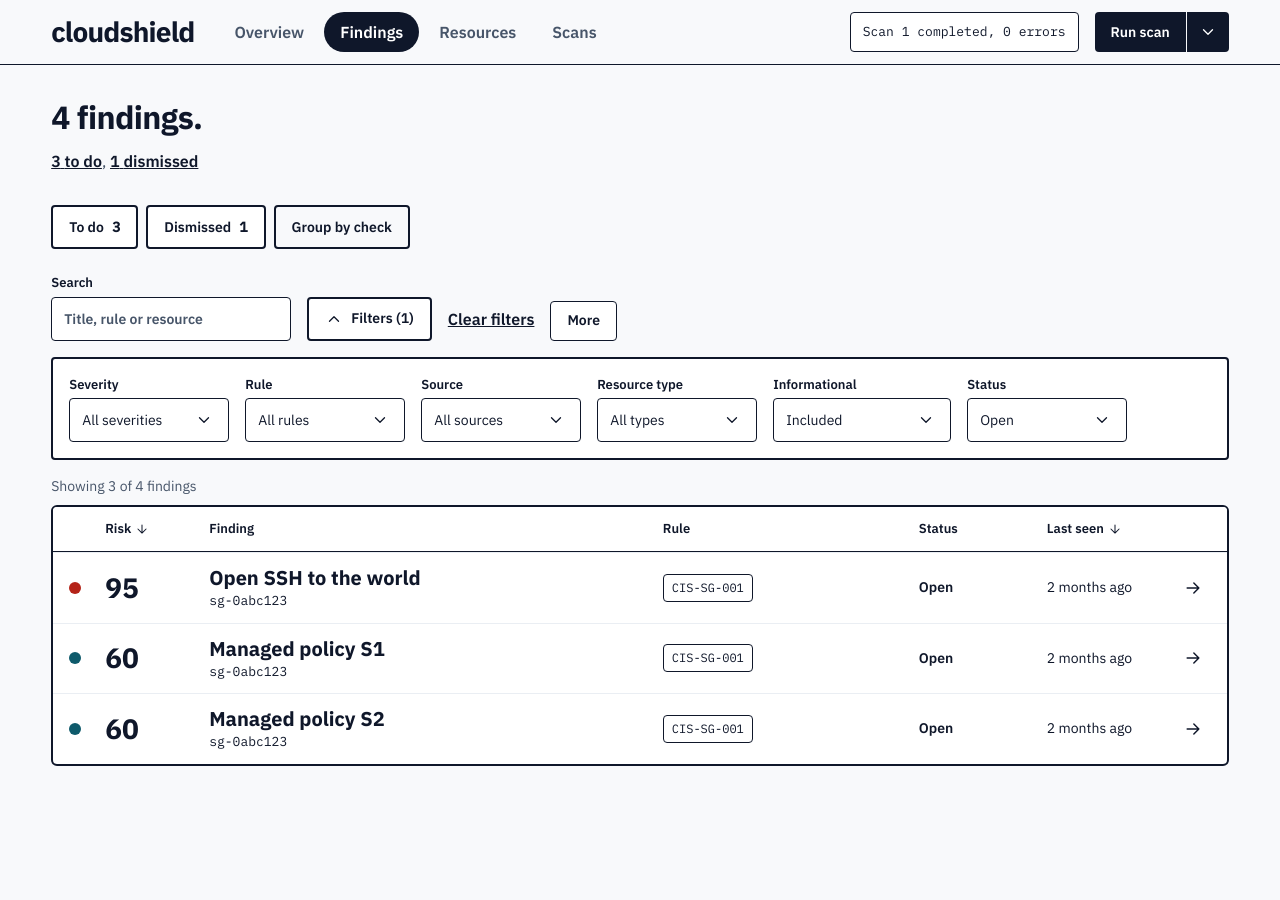
it: Bulk dismissal of AWS-managed findings › counts only open findings that were suggested, not ones already dismissed
What coordinates should you click on to do the following:
click the button "More"
I would click on:
 (584, 320)
Its box is [550,300,617,340].
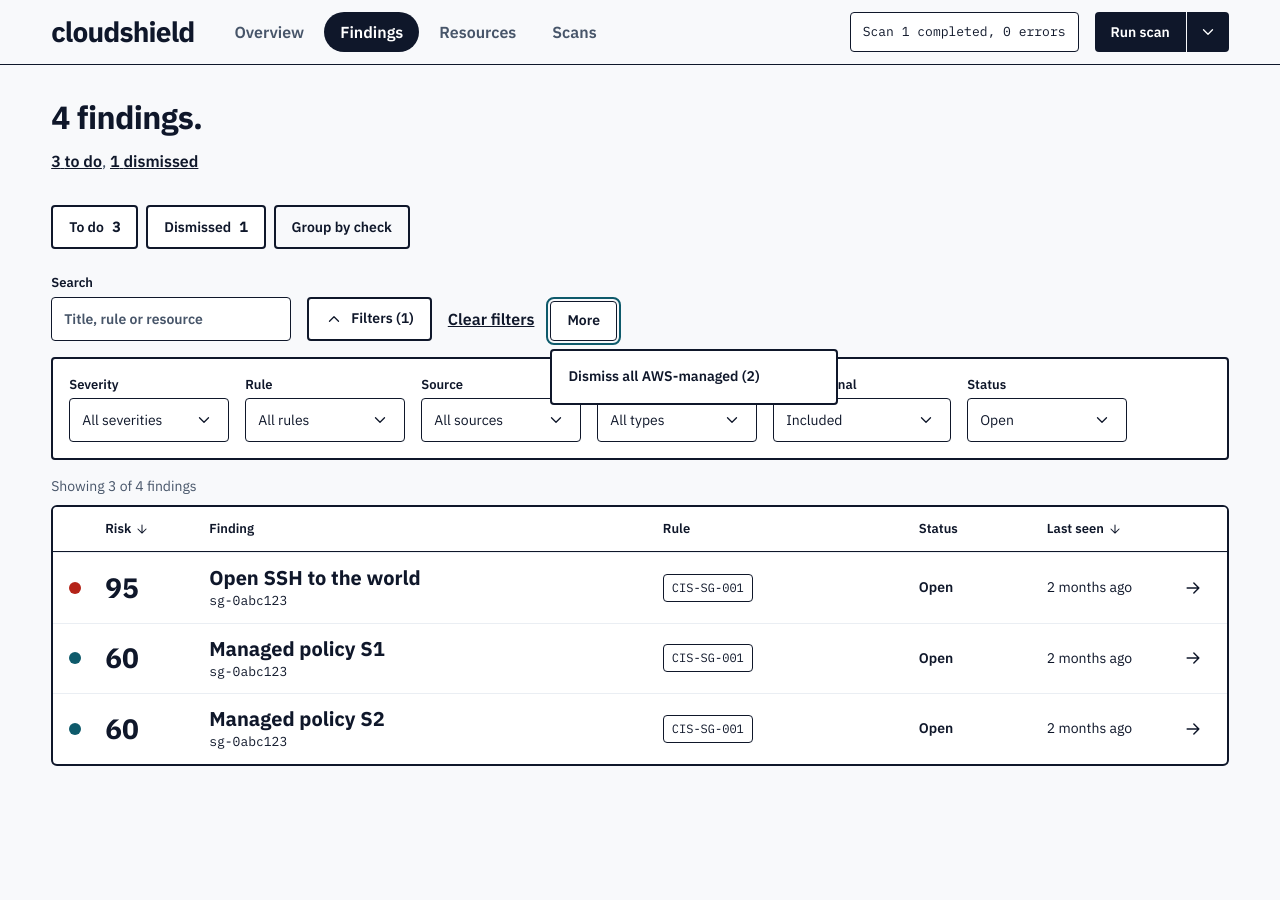
Now the menu item "Dismiss all AWS-managed (2)" is shown, box [556,354,832,398]
